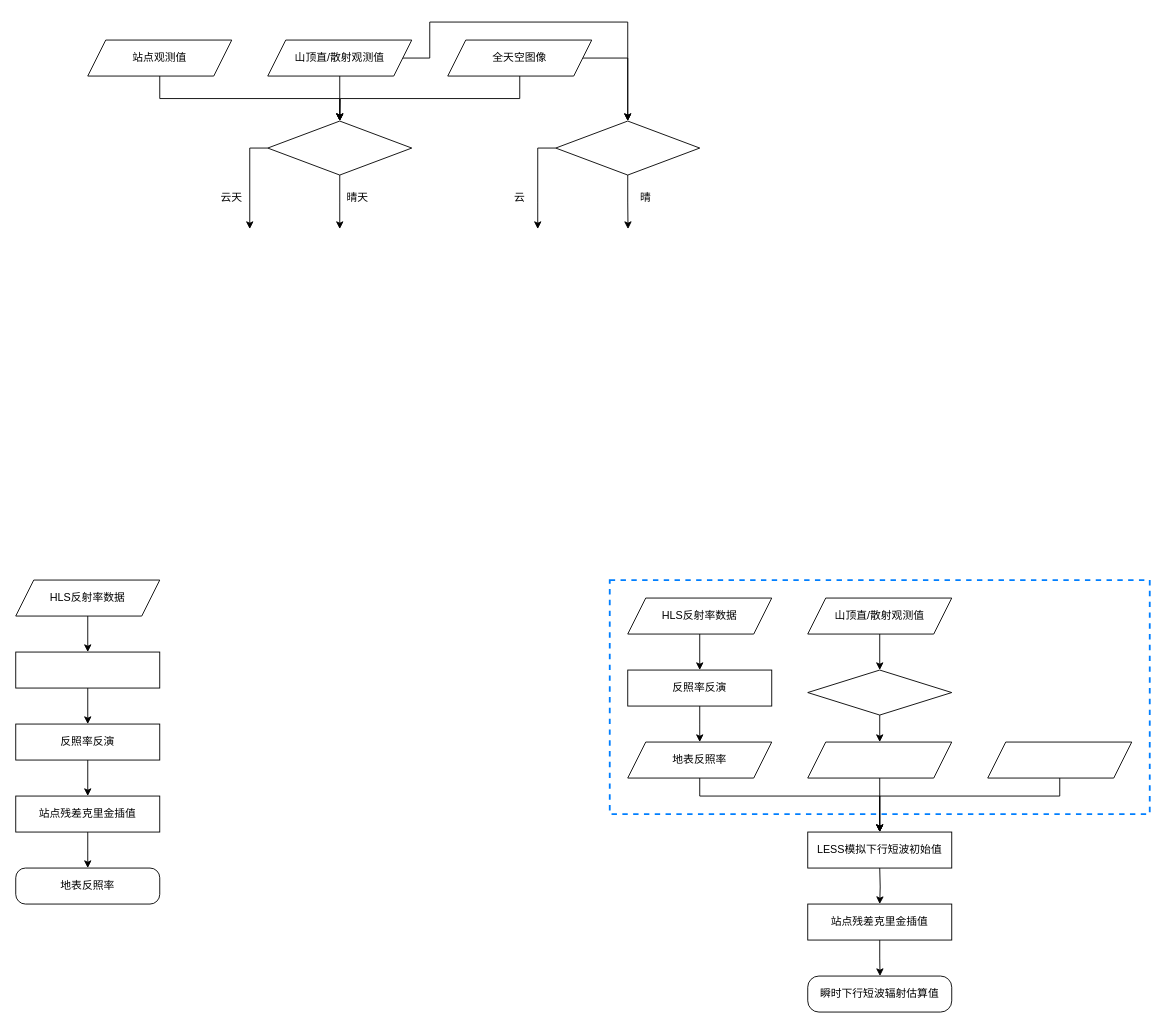
This 1166x1028 diagram has some shape labels left out. The shapes that lost their labels are listed below. From the top down, each one's centre as x and y in pixels, then its label:
point (339, 147): 判断研究区晴天/云天
point (627, 147): 判断山顶晴/阴
point (87, 669): 地形校正
point (879, 692): 判断晴天/云天
point (879, 759): 研究区平地直/散射值
point (1059, 759): DEM
